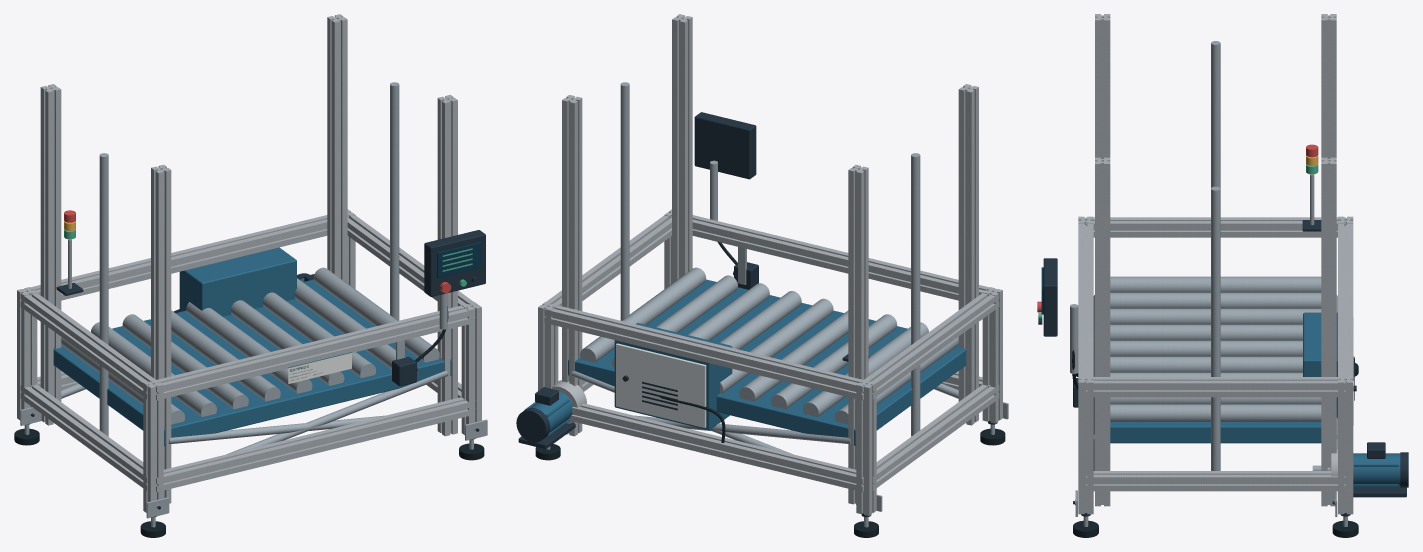
File: lift-conveyor.glb
3 views of the same model, side by side, from view 1: azimuth 30°, elevation 25°; view 2: azimuth 150°, elevation 25°; view 3: azimuth 270°, elevation 25° (orthographic). The views are drawn at different scales.
Visible parts, largest first — view 1: Platform_53, Extrusion_34, Extrusion_35, Extrusion_49, ElectricalCabinet_40, Extrusion_51, Extrusion_50, Extrusion_33, Extrusion_52, Extrusion_37, Extrusion_36, LiftScrew_54 (+20 smaller); view 2: Platform_53, Extrusion_33, Extrusion_32, Extrusion_50, Extrusion_51, BackAccessDoor_41, Extrusion_52, Extrusion_35, Extrusion_49, PanelBack_84, Extrusion_37, Extrusion_36 (+20 smaller); view 3: Extrusion_39, Extrusion_38, Extrusion_52, Extrusion_51, Platform_53, Extrusion_37, DeckRoller_82, DeckRoller_74, DeckRoller_75, DeckRoller_76, DeckRoller_77, DeckRoller_78 (+16 smaller).
Part boxes in pixels (<box>): Platform_53: <box>53,278,451,445</box>; Extrusion_34: <box>156,397,475,491</box>; Extrusion_35: <box>150,304,475,400</box>; Extrusion_49: <box>40,84,61,425</box>; ElectricalCabinet_40: <box>179,247,296,316</box>; Extrusion_51: <box>327,14,347,283</box>; Extrusion_50: <box>151,164,171,503</box>; Extrusion_33: <box>23,215,348,300</box>; Extrusion_52: <box>437,94,457,436</box>; Extrusion_37: <box>20,290,159,399</box>; Extrusion_36: <box>20,384,147,490</box>; LiftScrew_54: <box>99,153,108,436</box>; Platform_53: <box>568,279,966,445</box>; Extrusion_33: <box>544,304,869,400</box>; Extrusion_32: <box>569,403,863,491</box>; Extrusion_50: <box>958,84,978,425</box>; Extrusion_51: <box>562,95,582,436</box>; BackAccessDoor_41: <box>616,343,706,427</box>; Extrusion_52: <box>672,14,692,283</box>; Extrusion_35: <box>670,215,996,300</box>; Extrusion_49: <box>848,164,868,504</box>; PanelBack_84: <box>694,112,756,179</box>; Extrusion_37: <box>860,293,999,399</box>; Extrusion_36: <box>872,384,999,490</box>; Extrusion_39: <box>1086,377,1345,397</box>; Extrusion_38: <box>1086,471,1345,491</box>; Extrusion_52: <box>1095,157,1110,506</box>; Extrusion_51: <box>1321,157,1336,506</box>; Platform_53: <box>1110,421,1321,443</box>; Extrusion_37: <box>1086,217,1345,237</box>; DeckRoller_82: <box>1110,404,1321,421</box>; DeckRoller_74: <box>1110,276,1321,292</box>; DeckRoller_75: <box>1110,292,1321,308</box>; DeckRoller_76: <box>1110,308,1321,324</box>; DeckRoller_77: <box>1110,324,1302,340</box>; DeckRoller_78: <box>1110,340,1302,356</box>.
Bounding box in the file's own units: 1.71 × 1.7 × 1.57.
11 materials, 3 textured.
